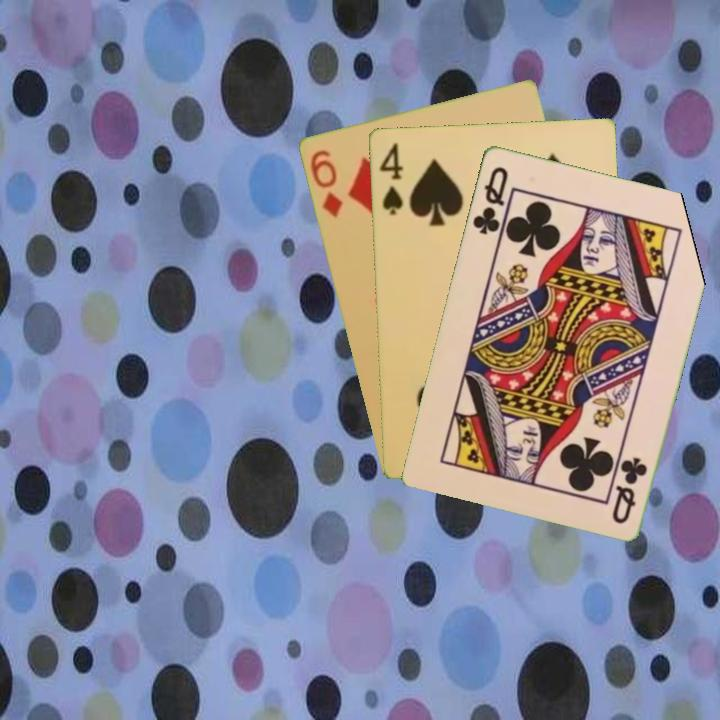4s: (375, 138, 406, 217)
6d: (306, 145, 345, 220)
Qc: (468, 162, 511, 237), (608, 453, 650, 527)
